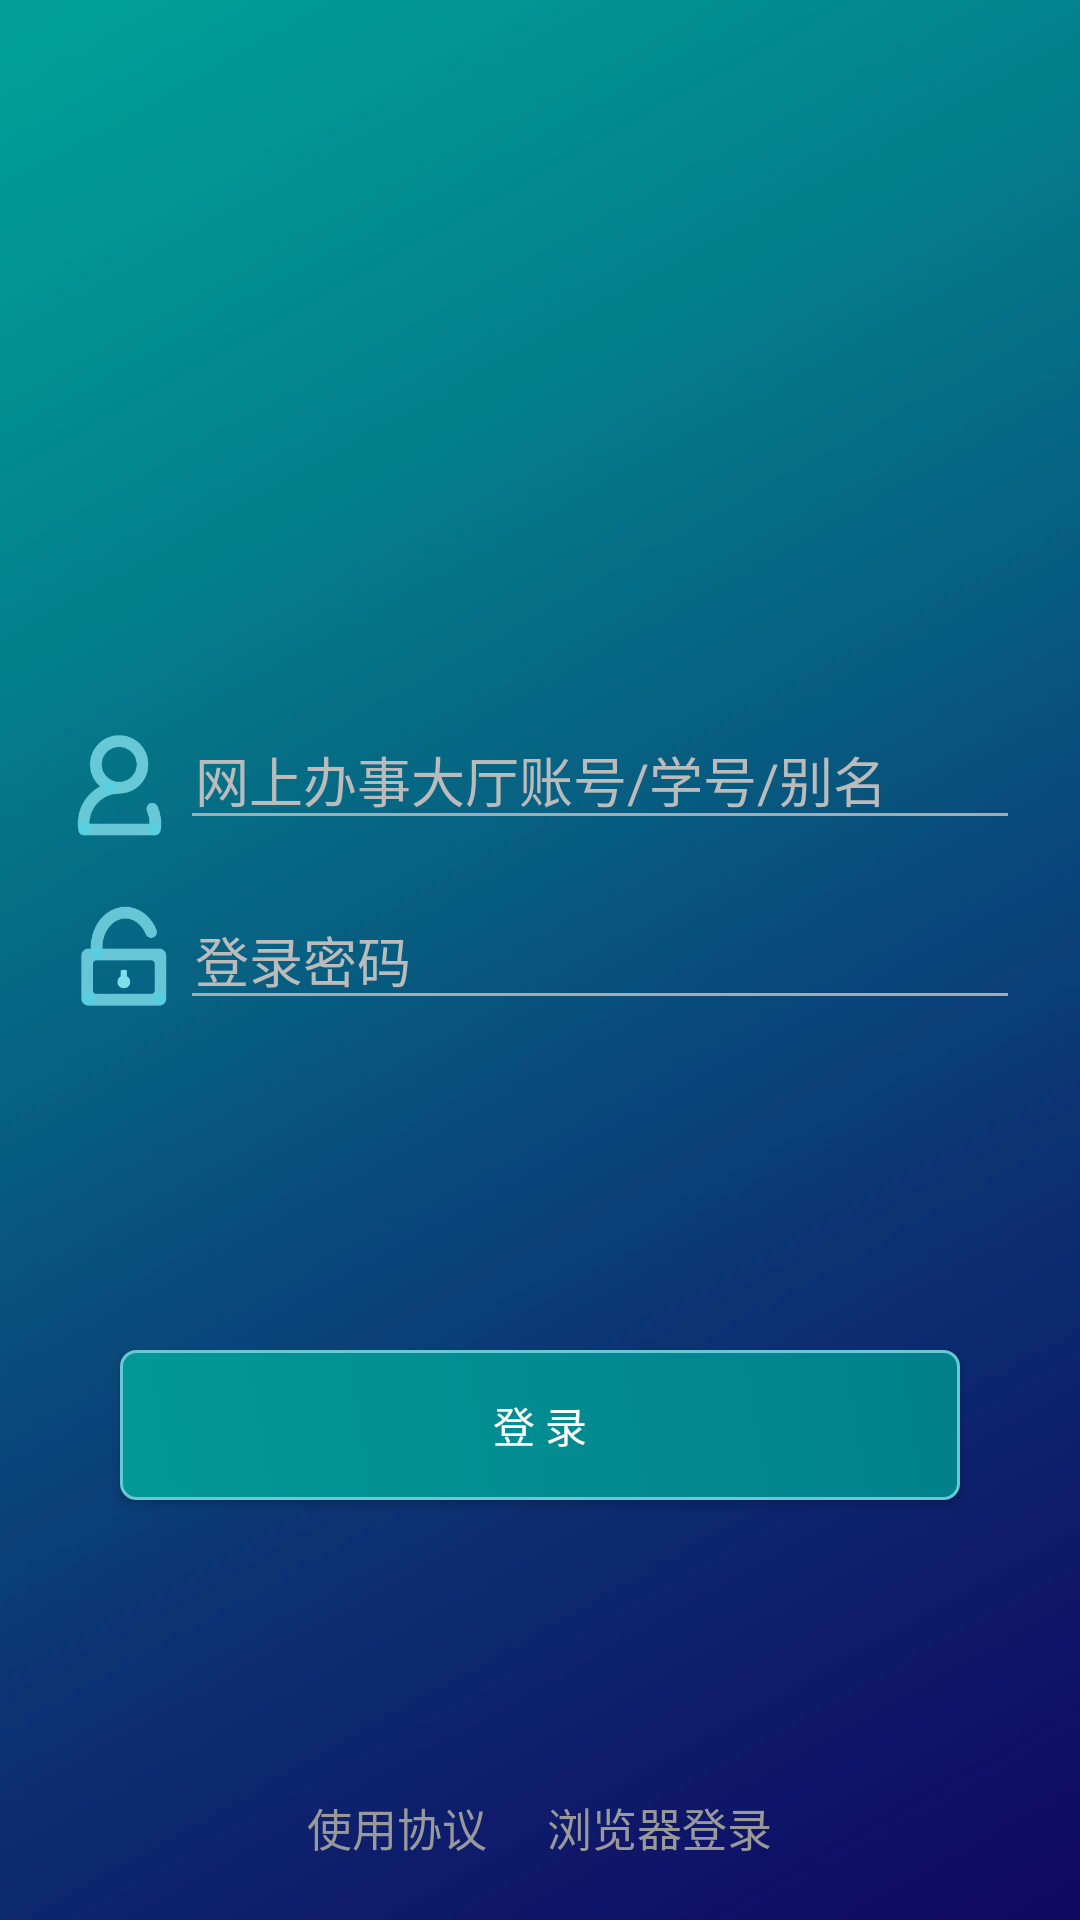

Where icons sit on this 1080px×1920px app screen, as (x1, y1, x2, y2):
password login: (81, 907, 167, 1006)
username login: (78, 735, 162, 836)
